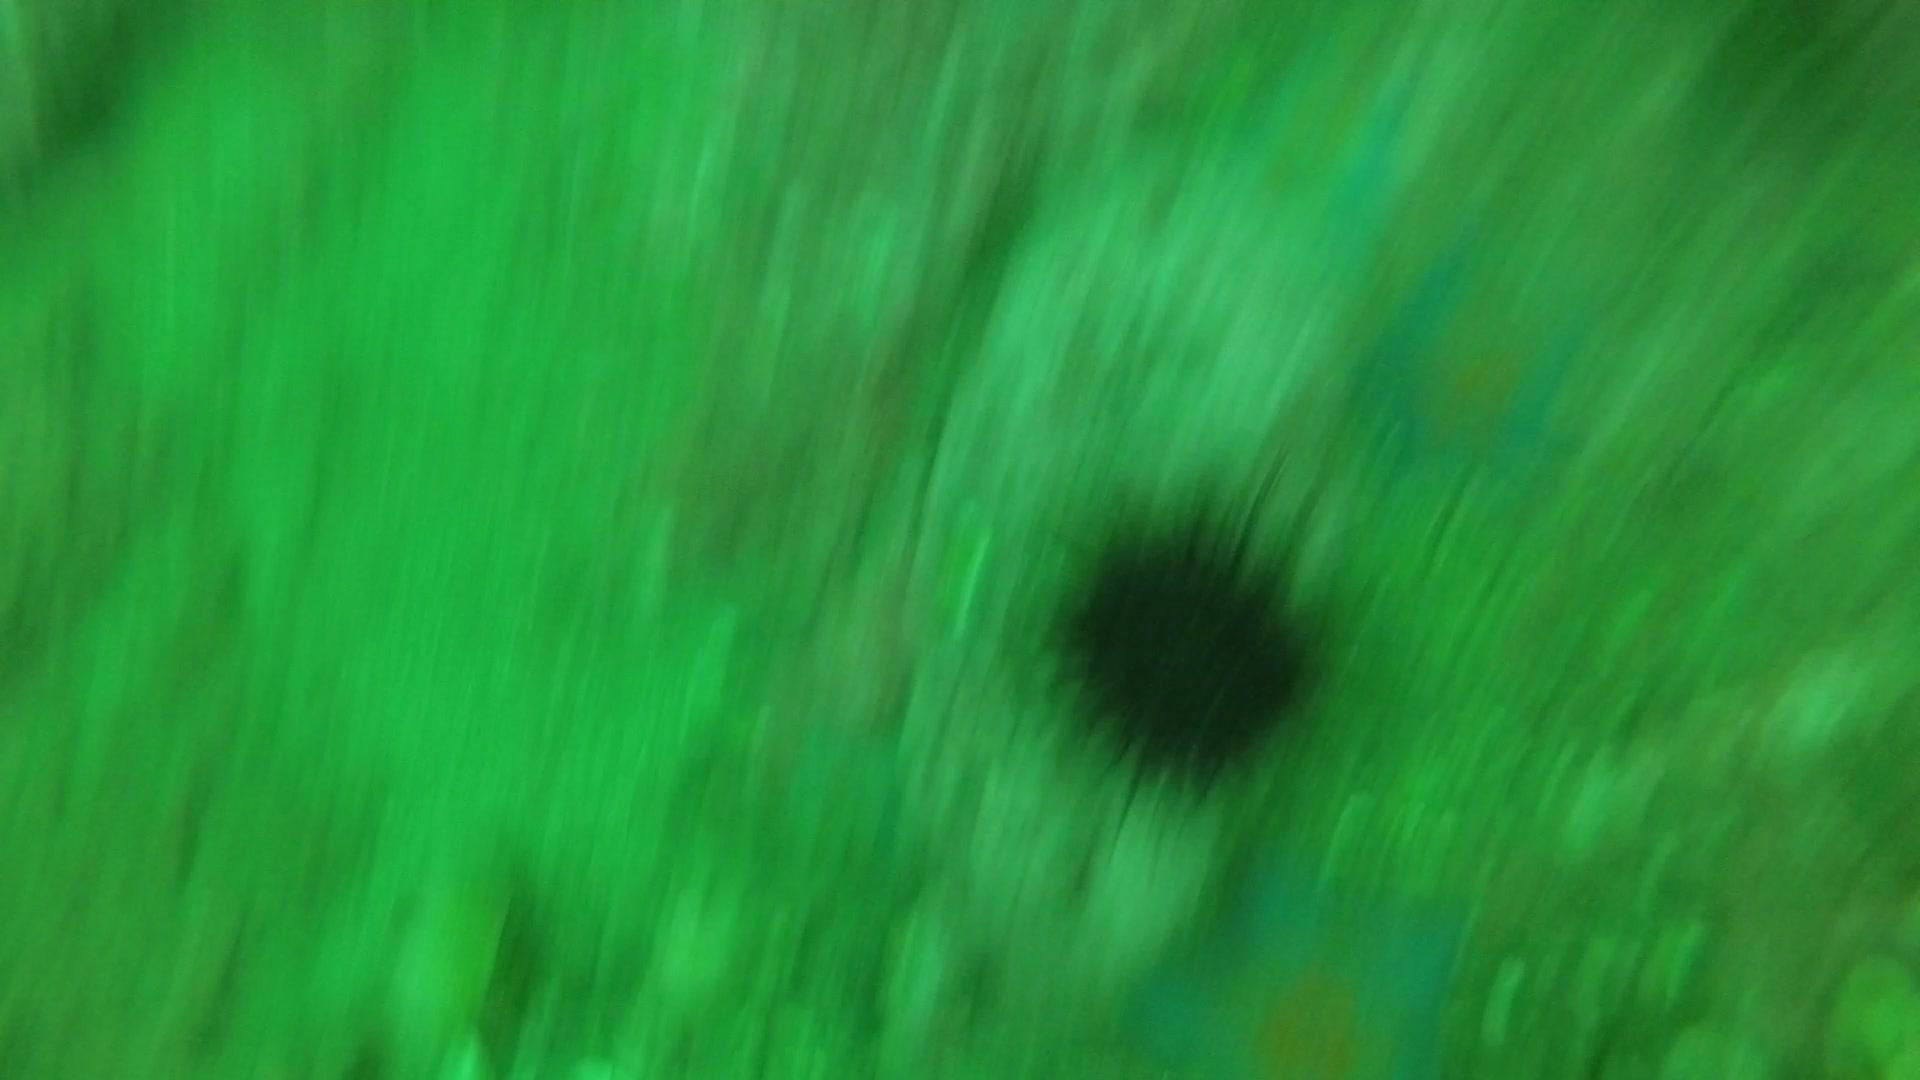urchin: (1043, 500, 1309, 770)
